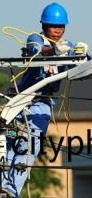boots: (60, 51, 92, 82)
hard-hat: (40, 0, 69, 24)
ppe-suit: (0, 29, 89, 198)
